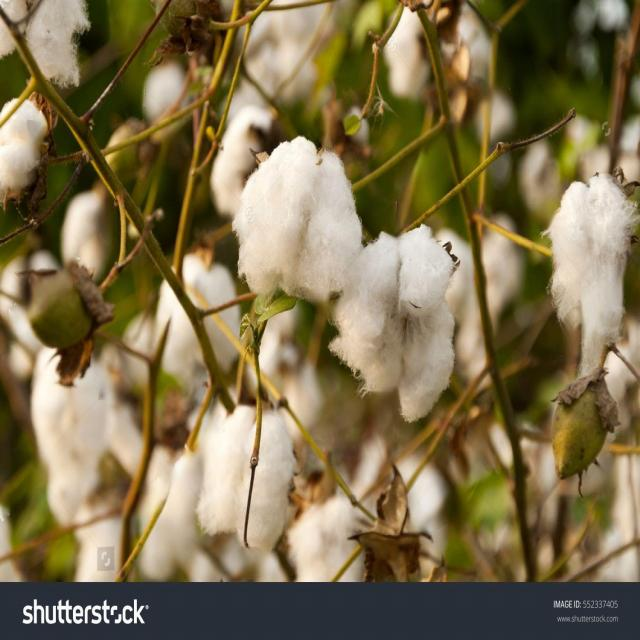Leaf: (316, 222, 467, 446), (220, 129, 385, 314), (538, 149, 640, 351), (189, 384, 297, 561), (1, 0, 100, 98), (0, 83, 59, 223)
